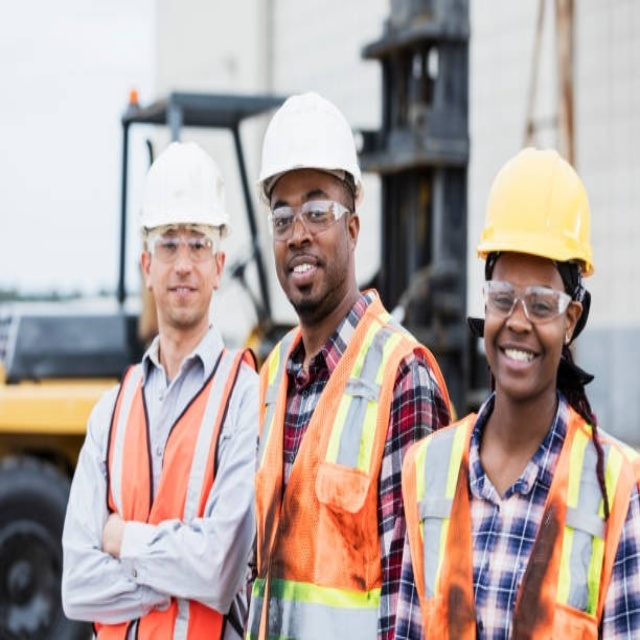Gafas: (482, 282, 573, 321), (269, 199, 352, 240), (146, 233, 220, 263)
Sin_mascara: (284, 251, 328, 300), (497, 337, 539, 383), (166, 276, 201, 318)
